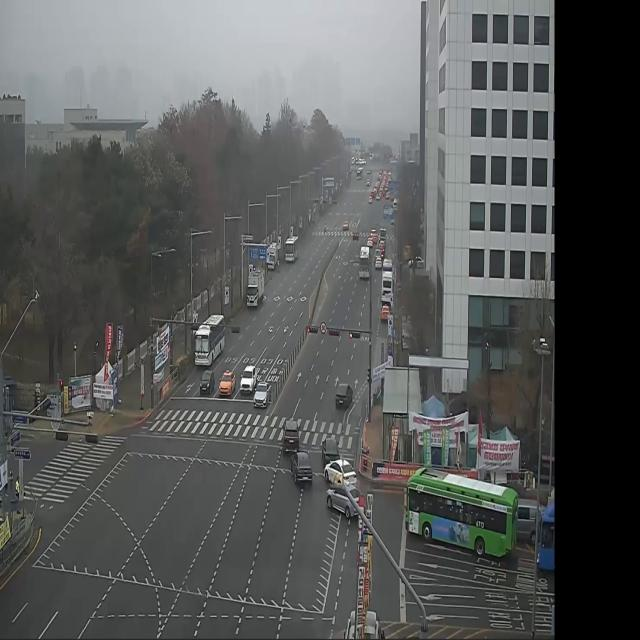car: (405, 465, 517, 561), (195, 313, 225, 367), (381, 270, 394, 306), (284, 233, 299, 264), (359, 243, 371, 280)
motorcycle: (326, 480, 365, 520), (325, 460, 357, 488), (290, 451, 314, 487), (282, 417, 299, 454), (218, 367, 236, 399), (322, 437, 341, 467), (240, 364, 257, 395), (335, 382, 353, 410), (253, 382, 271, 408), (200, 368, 215, 397)
truck: (246, 264, 266, 310)
